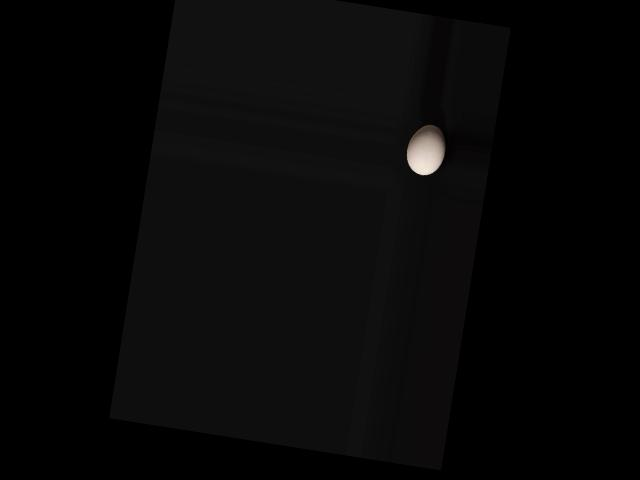egg: (403, 122, 448, 178)
